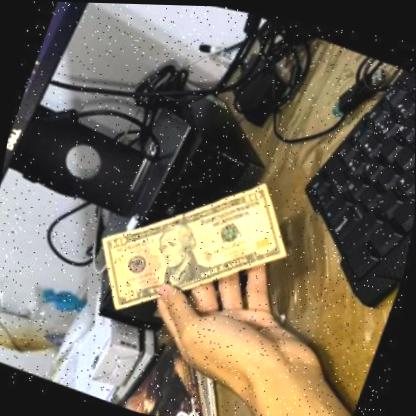ten-front: (74, 130, 312, 362)
